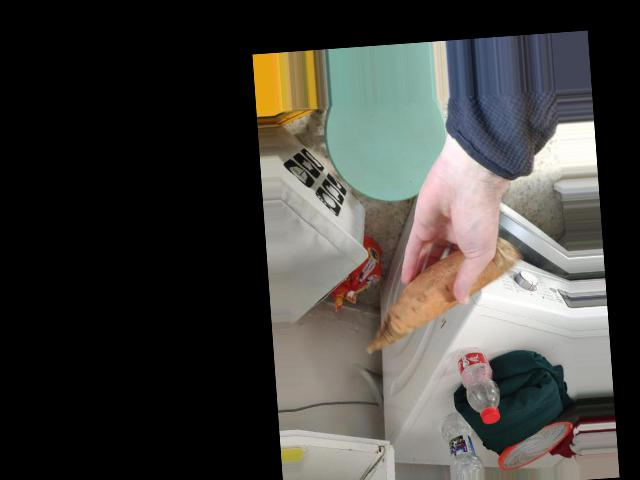sweet_potato: (396, 249, 487, 338)
